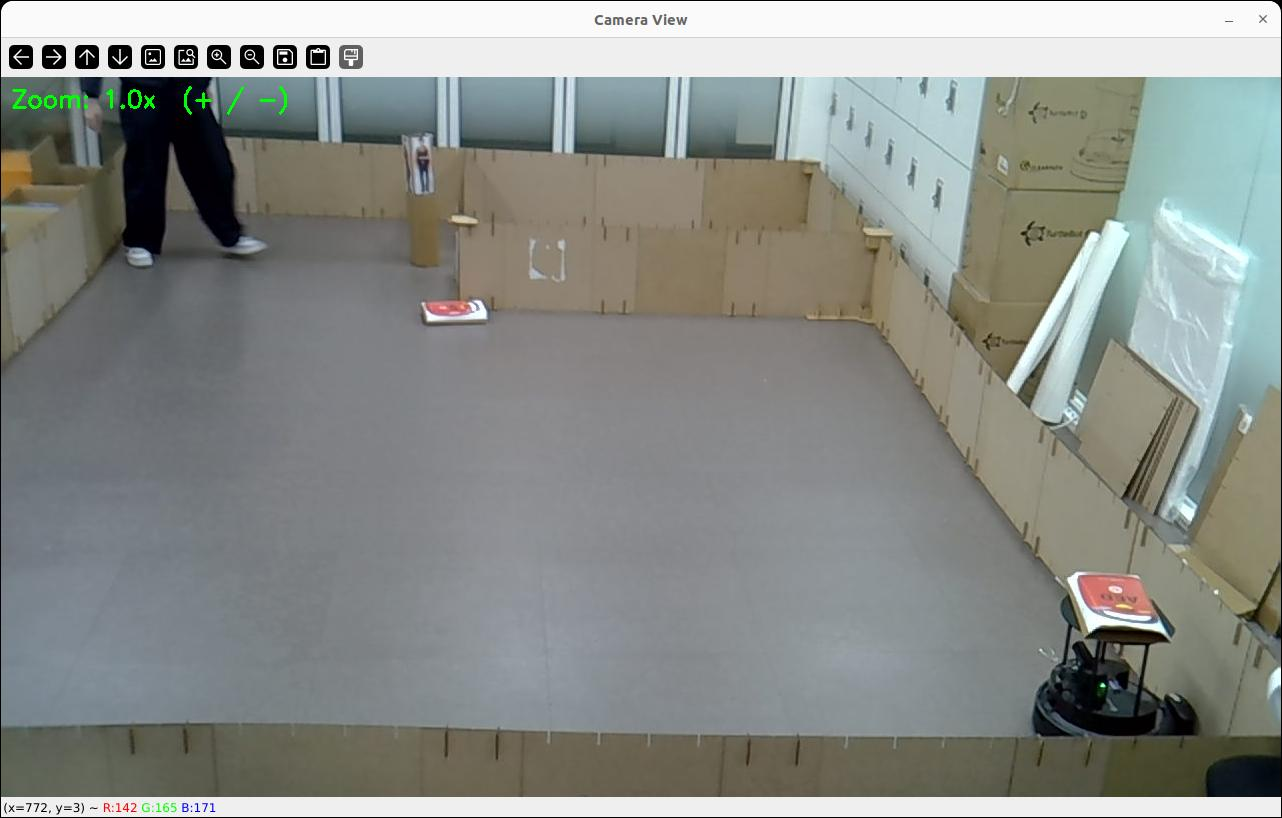AED: (1067, 572, 1172, 644), (421, 299, 487, 325)
